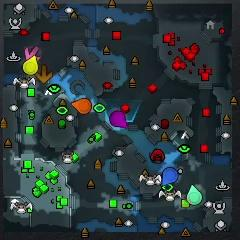p1: (162, 167, 178, 185)
p2: (187, 184, 203, 205)
p3: (110, 111, 127, 128)
p4: (23, 56, 38, 74)
p5: (71, 98, 92, 115)
x1: (25, 46, 41, 61)
x5: (35, 65, 53, 84)
